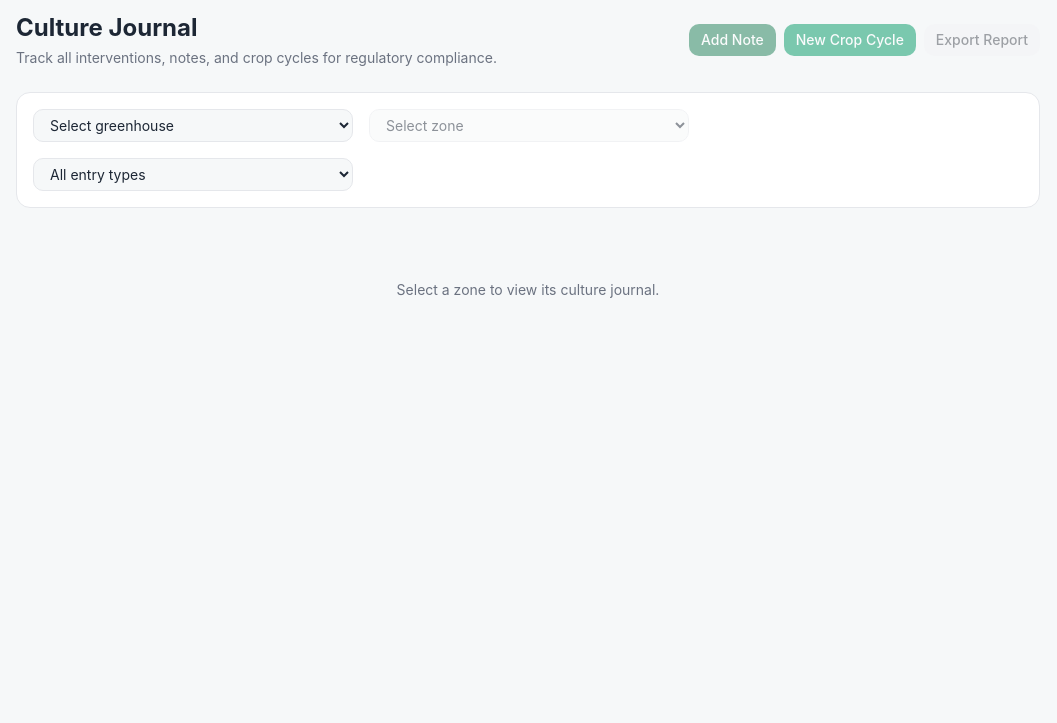
CultureJournal page › clears zone selection and entries when greenhouse is cleared
Select "Greenhouse Alpha" in the 1st dropdown: {"x": 193, "y": 126} x1=33 y1=109 x2=353 y2=142
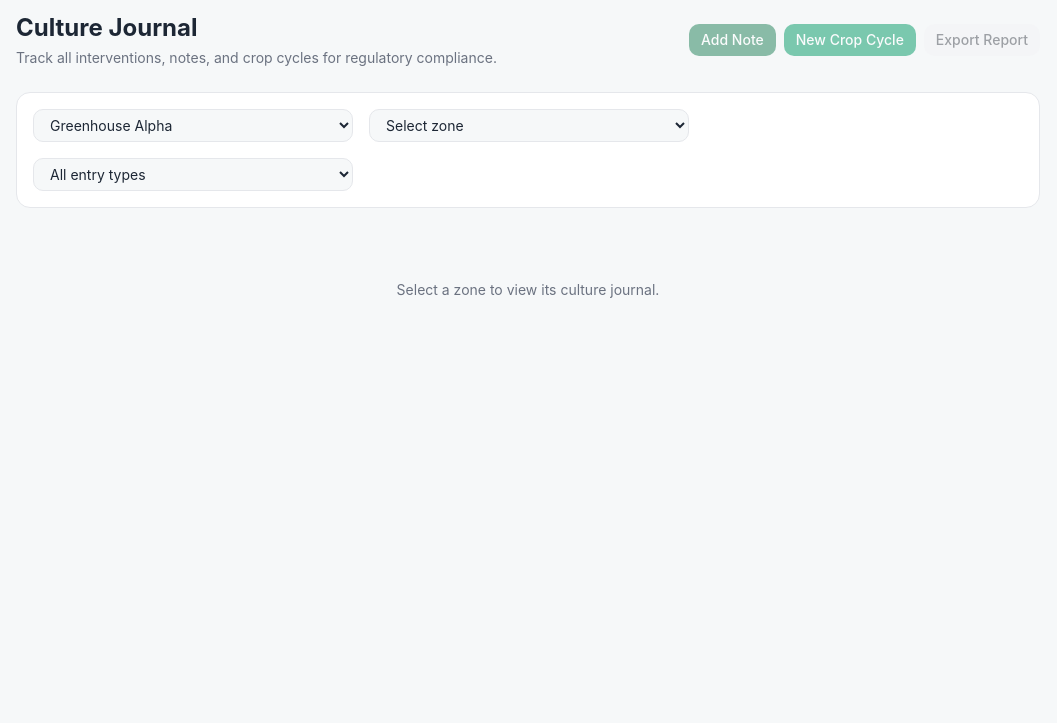
Select "Zone Tomato" in the 2nd dropdown: {"x": 529, "y": 126} x1=369 y1=109 x2=689 y2=142
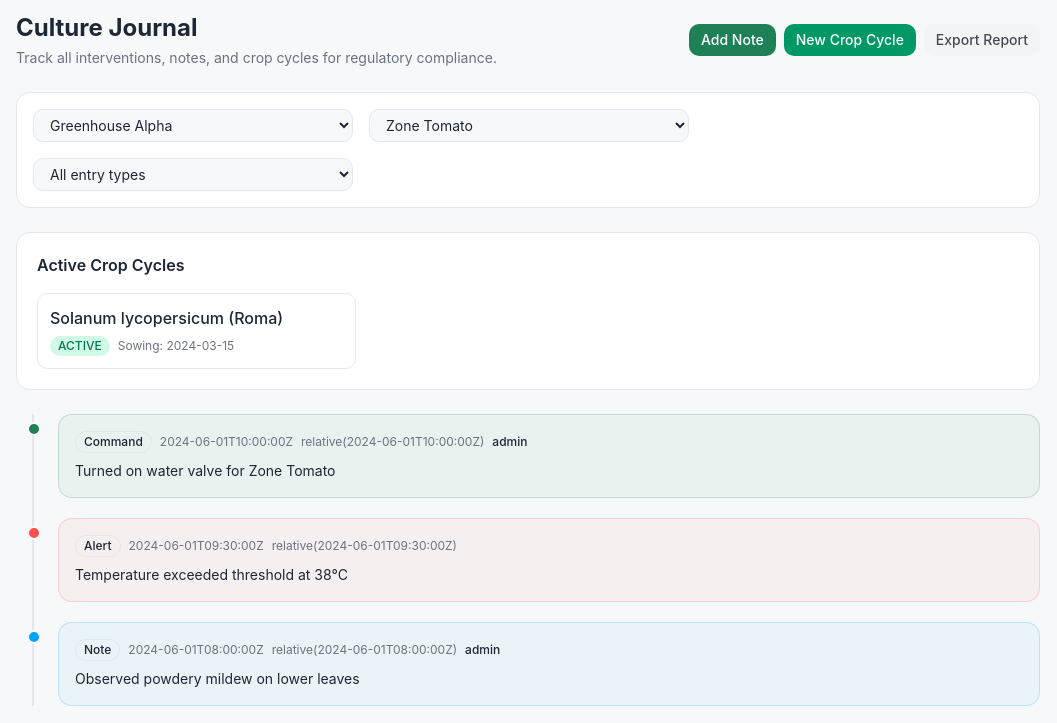
Expected: the text "Turned on water valve for Zone Tomato" is shown, x1=75 y1=462 x2=336 y2=479
Note: Clear greenhouse selection
Select "Select greenhouse" in the 1st dropdown: {"x": 193, "y": 126} x1=33 y1=109 x2=353 y2=142
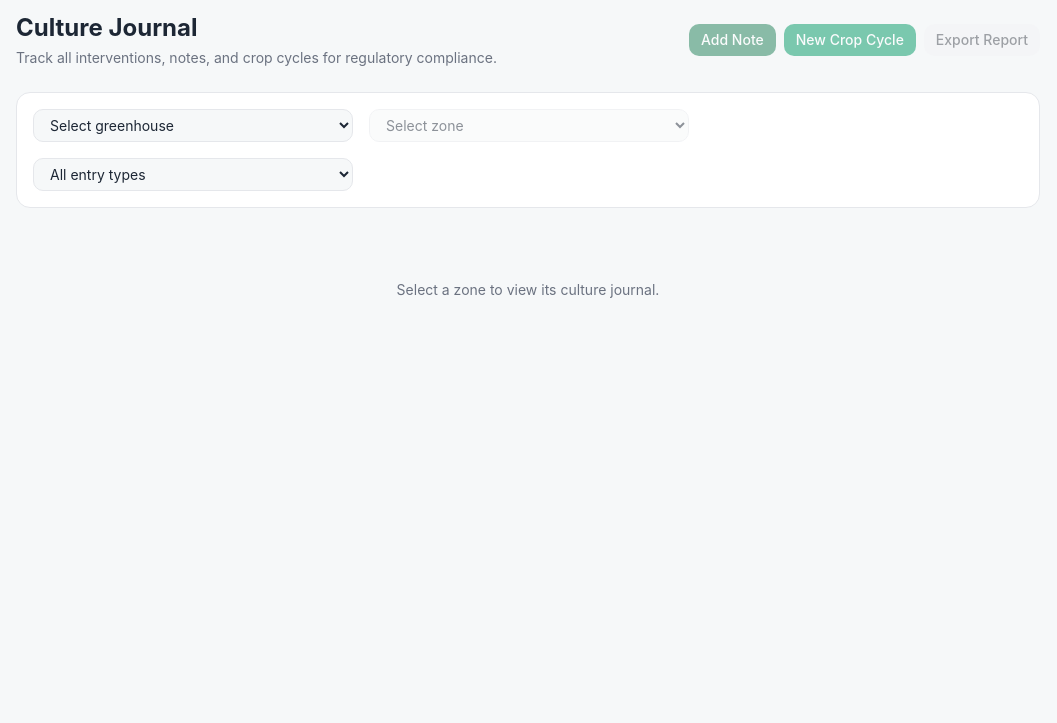
Expected: the text "Select a zone to view its culture journal." is shown, x1=397 y1=281 x2=659 y2=298
